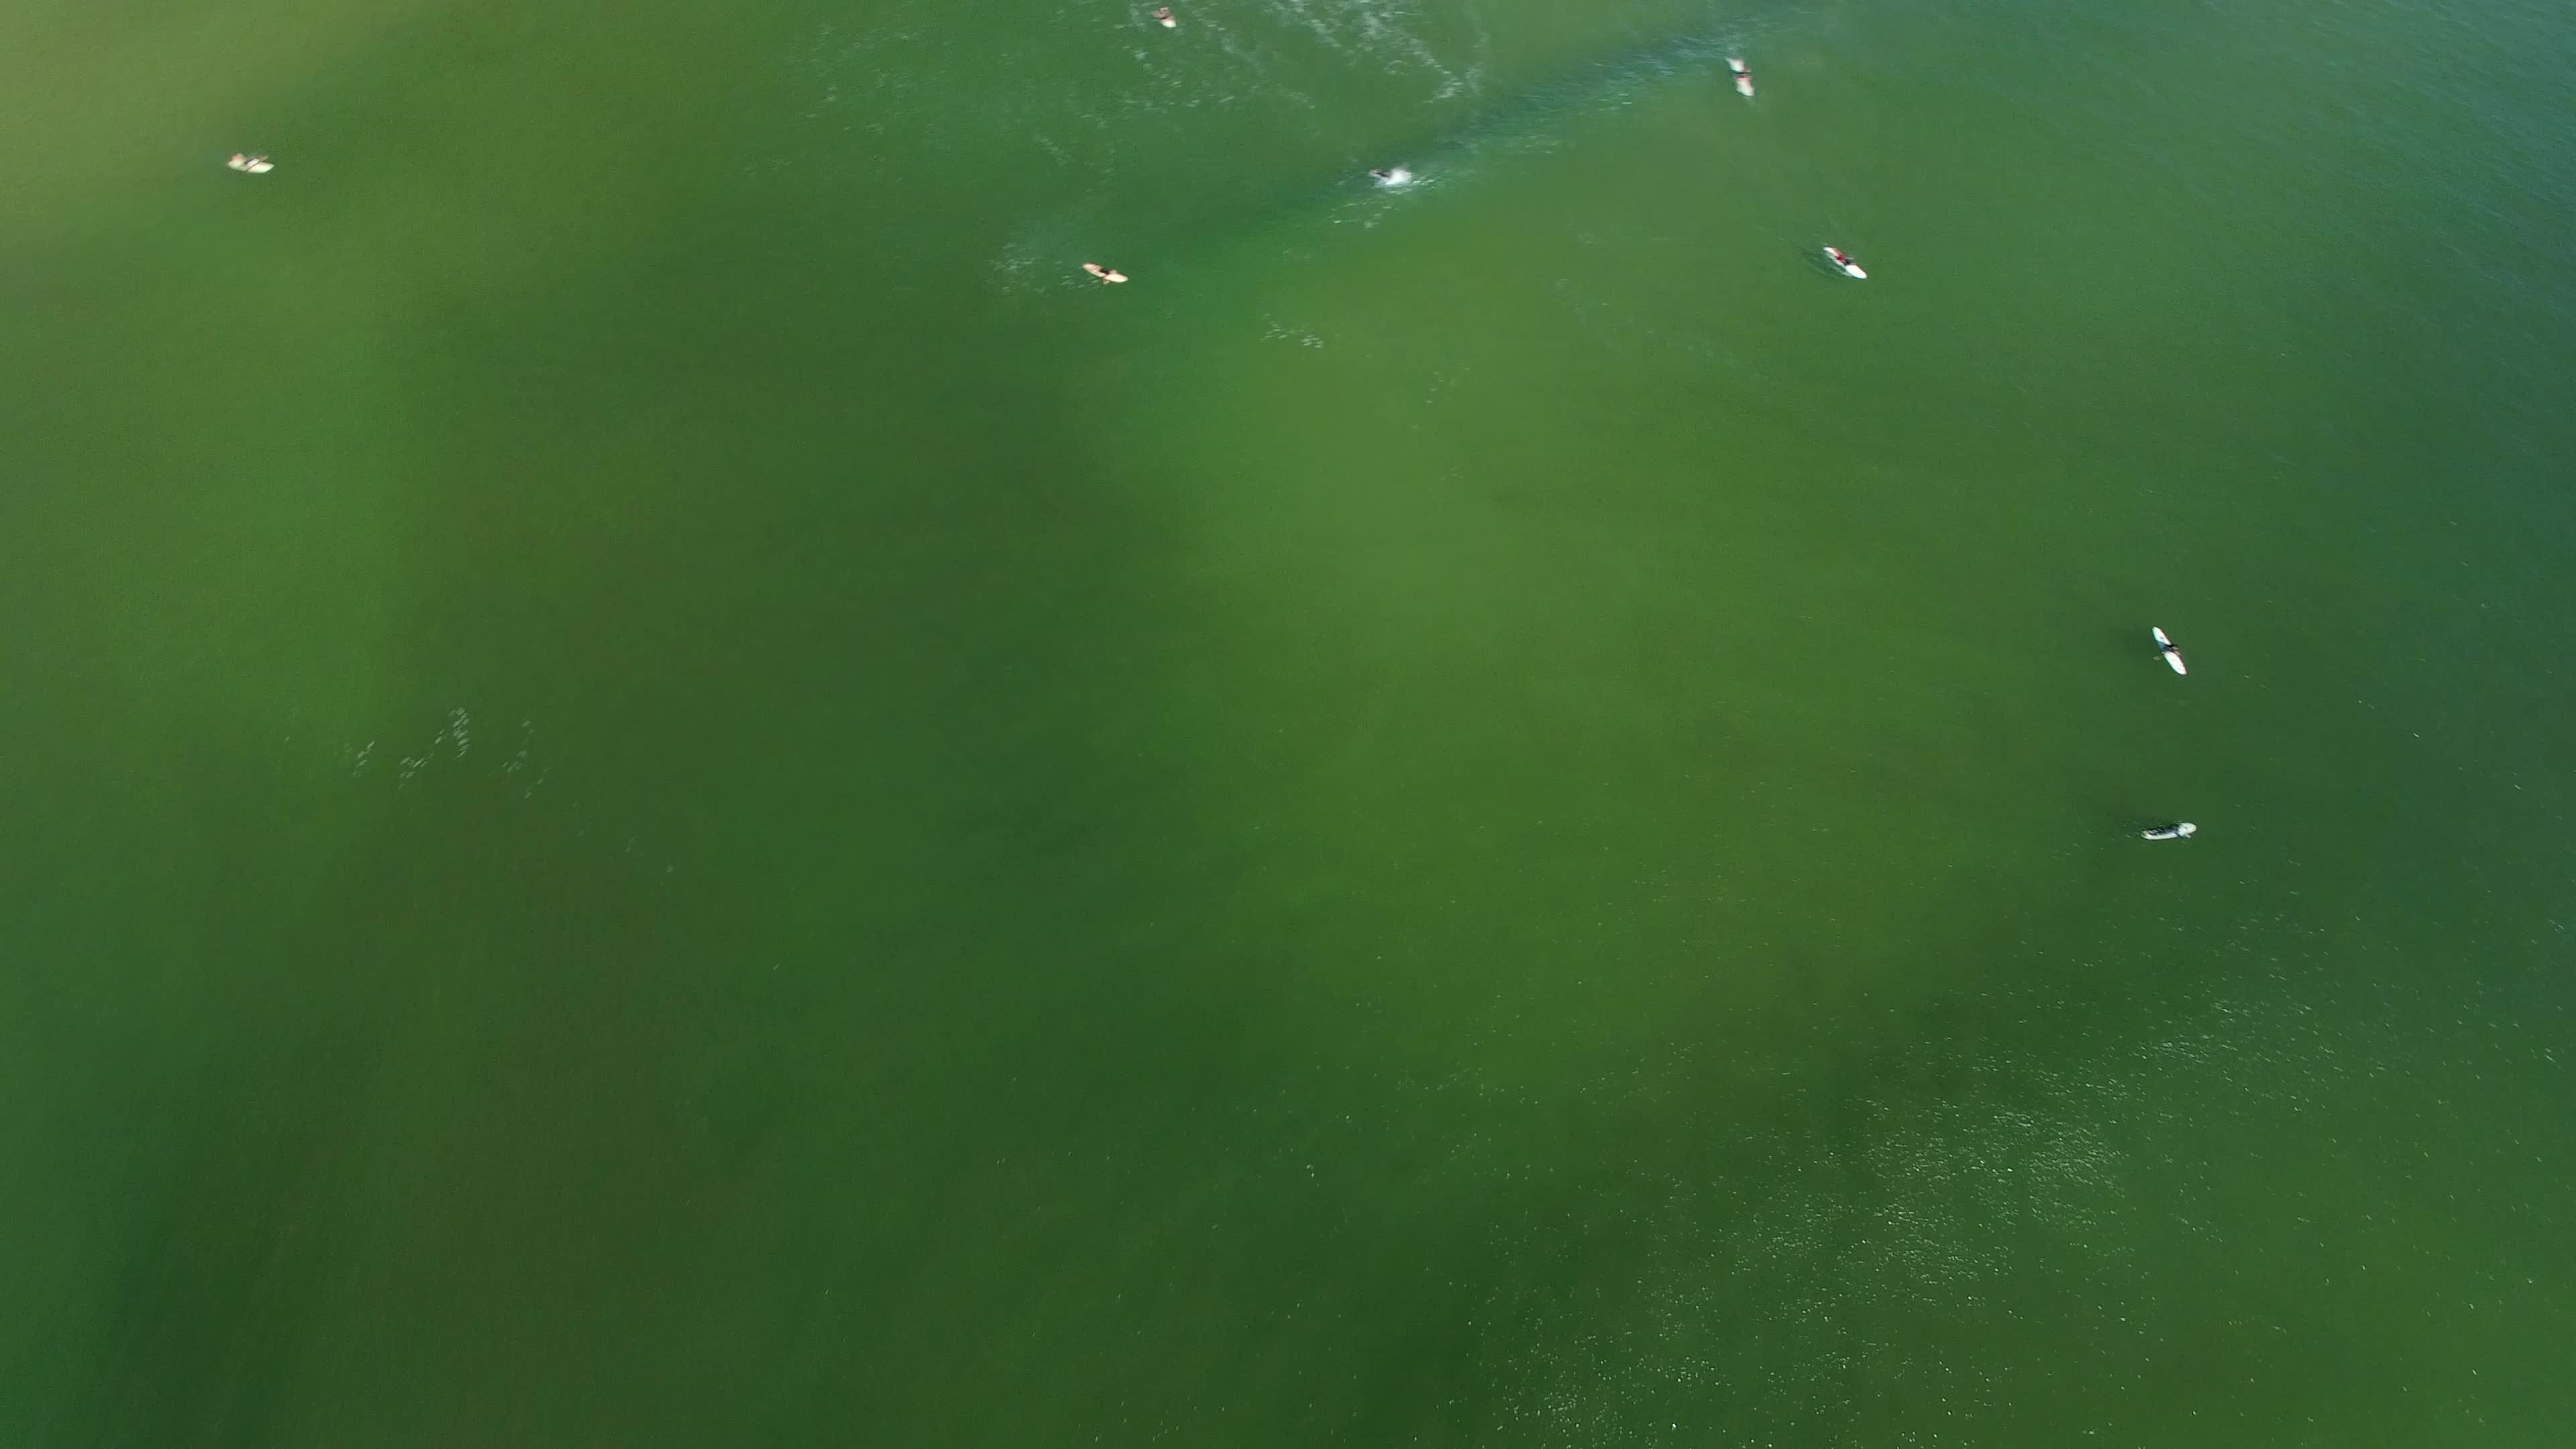surfer: (2130, 810, 2219, 856), (2141, 621, 2194, 683), (1813, 237, 1877, 287), (1721, 51, 1766, 110), (221, 150, 288, 182), (1081, 255, 1136, 292), (1148, 0, 1184, 32)
